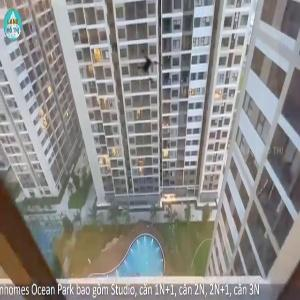drone: (114, 31, 185, 102)
